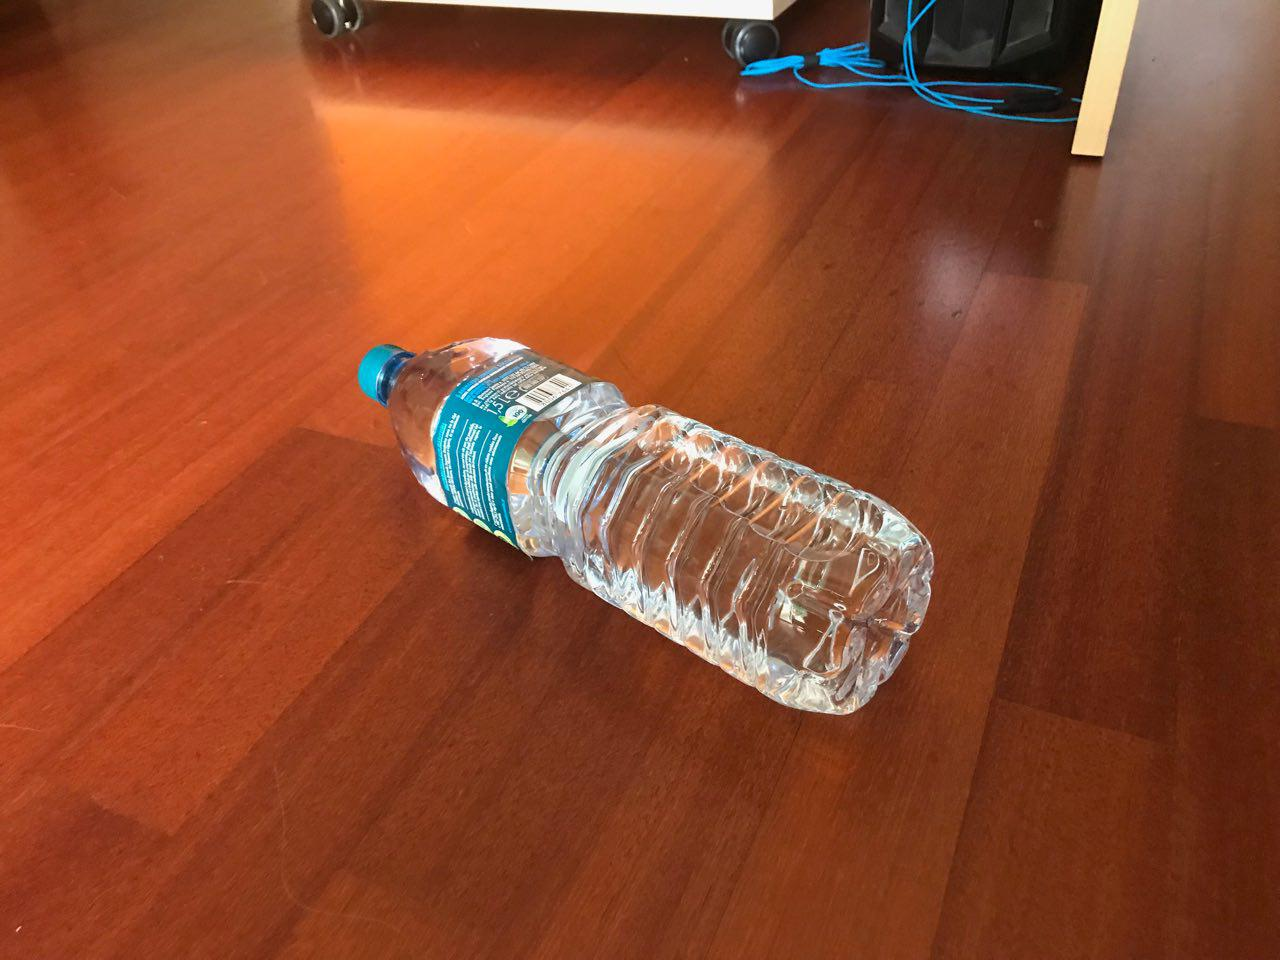san_bernardo: (354, 336, 936, 718)
